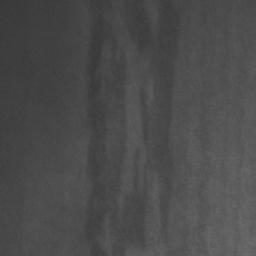Inclusion: (87, 0, 148, 256), (123, 0, 184, 227)
